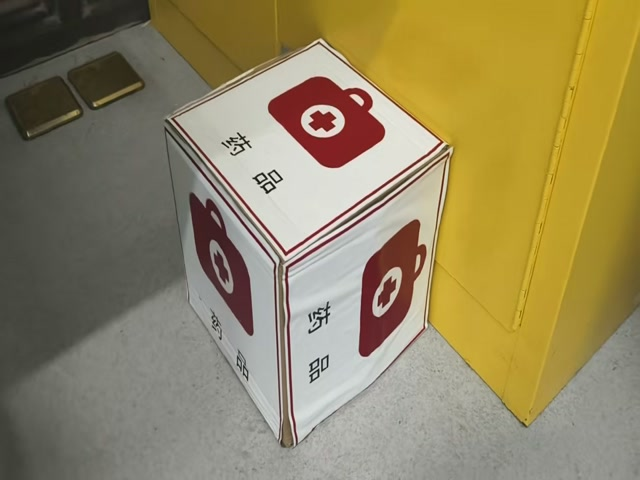Cube_medicine: (165, 40, 451, 270)
